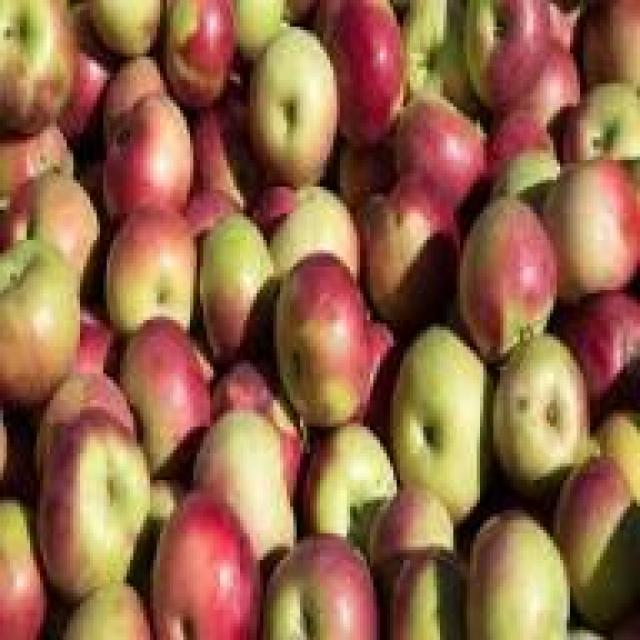apple: (33, 414, 147, 594), (393, 337, 500, 503), (200, 416, 317, 566), (270, 257, 380, 413), (360, 164, 467, 324), (493, 323, 597, 480), (113, 320, 220, 470), (460, 193, 557, 350), (10, 167, 103, 313), (157, 487, 250, 633), (466, 510, 576, 630), (300, 397, 397, 533), (260, 530, 383, 637), (106, 210, 196, 353), (536, 160, 636, 287), (550, 457, 637, 600), (3, 237, 80, 393), (113, 76, 197, 206), (396, 87, 486, 203), (253, 30, 330, 163), (463, 3, 557, 110), (200, 227, 277, 350)
